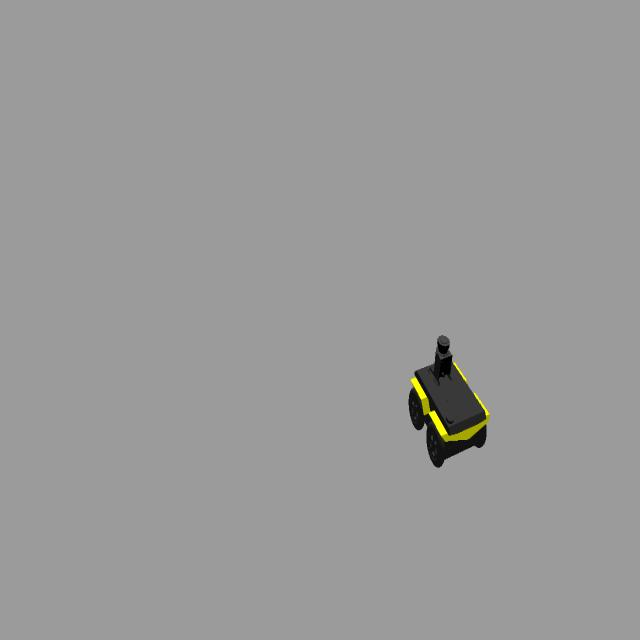jackal: (408, 336, 490, 466)
